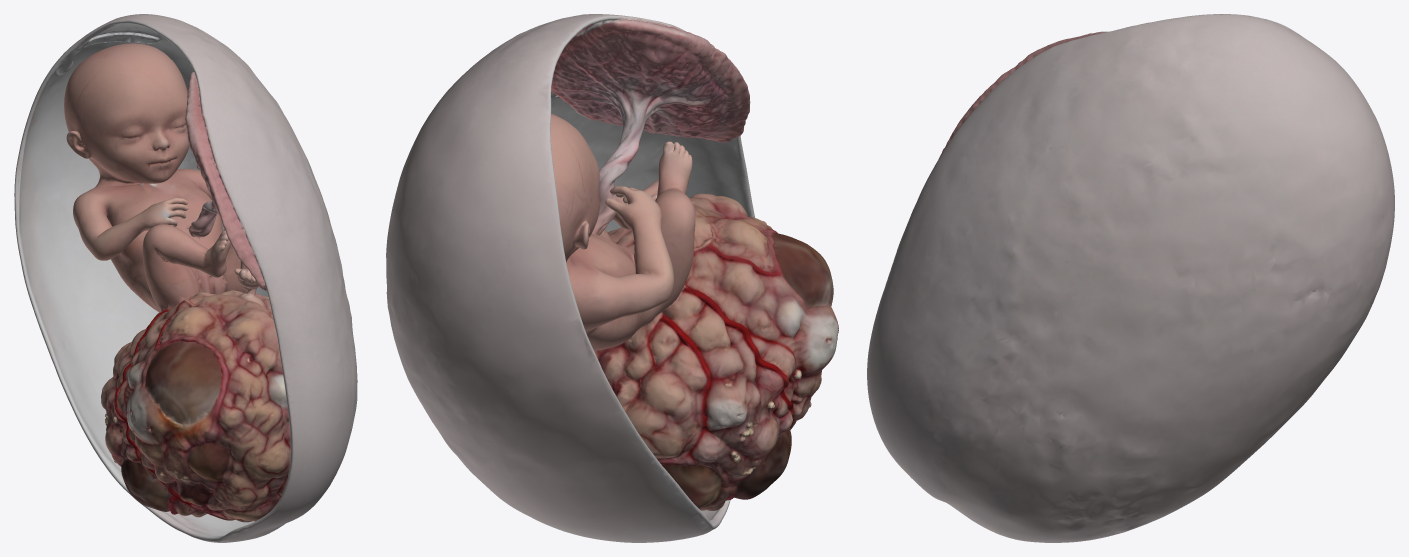
Rendered from teratoma-v1.glb.
3 views of the same model, side by side, from view 1: azimuth 30°, elevation 25°; view 2: azimuth 150°, elevation 25°; view 3: azimuth 270°, elevation 25° (orthographic). The views are drawn at different scales.
Bounding box in the file's own units: 1.11 × 1.9 × 1.78.
1 material, 1 textured.
